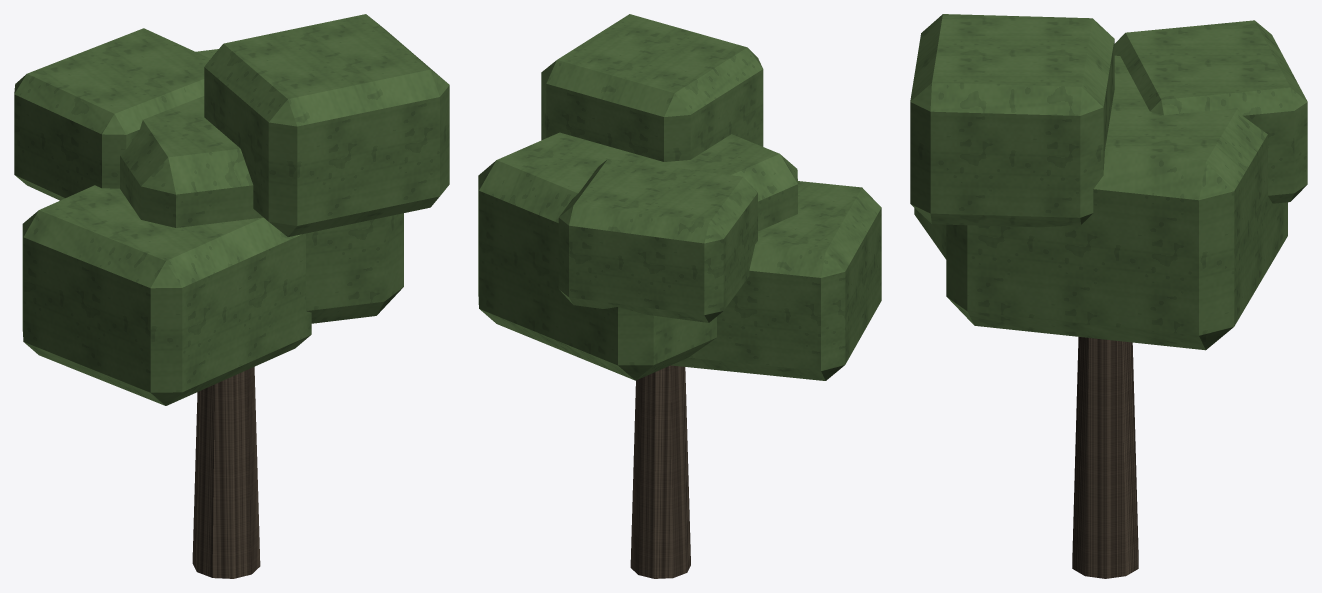
File: oak_tree_a.glb
3 renders of one model, left to right at view 1: azimuth 30°, elevation 25°; view 2: azimuth 150°, elevation 25°; view 3: azimuth 270°, elevation 25°, orthographic. The views are drawn at different scales.
Visible parts, largest first — view 1: OakTreeA; view 2: OakTreeA; view 3: OakTreeA.
Part boxes in pixels (left/top/right/bottom): OakTreeA: left=14, top=14, right=449, bottom=578; OakTreeA: left=478, top=14, right=881, bottom=578; OakTreeA: left=910, top=14, right=1307, bottom=578.
Bounding box in the file's own units: 3.11 × 4.31 × 2.87.
2 materials, 2 textured.
